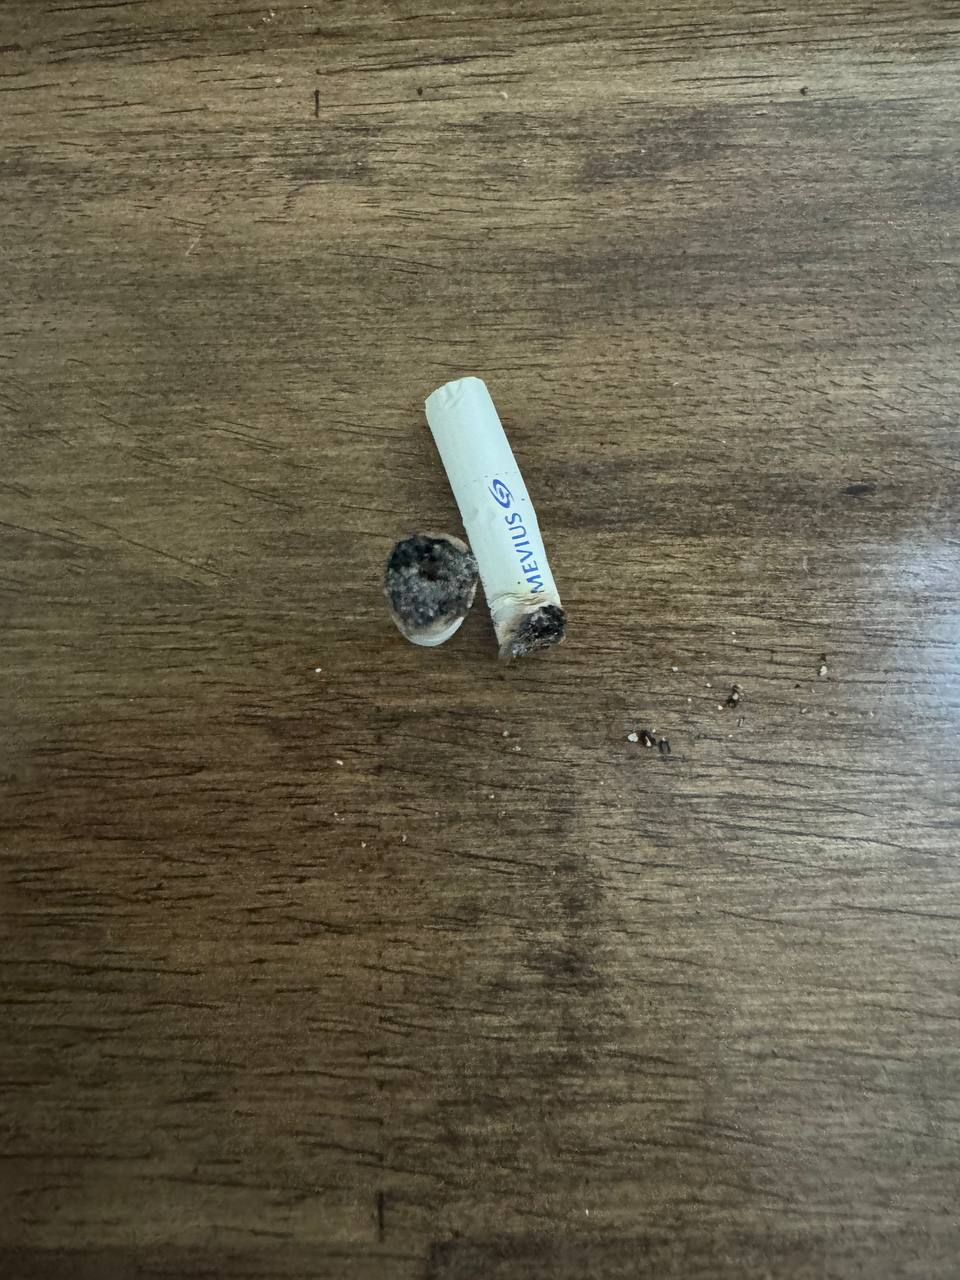trash: (410, 358, 575, 676), (370, 519, 487, 671)
